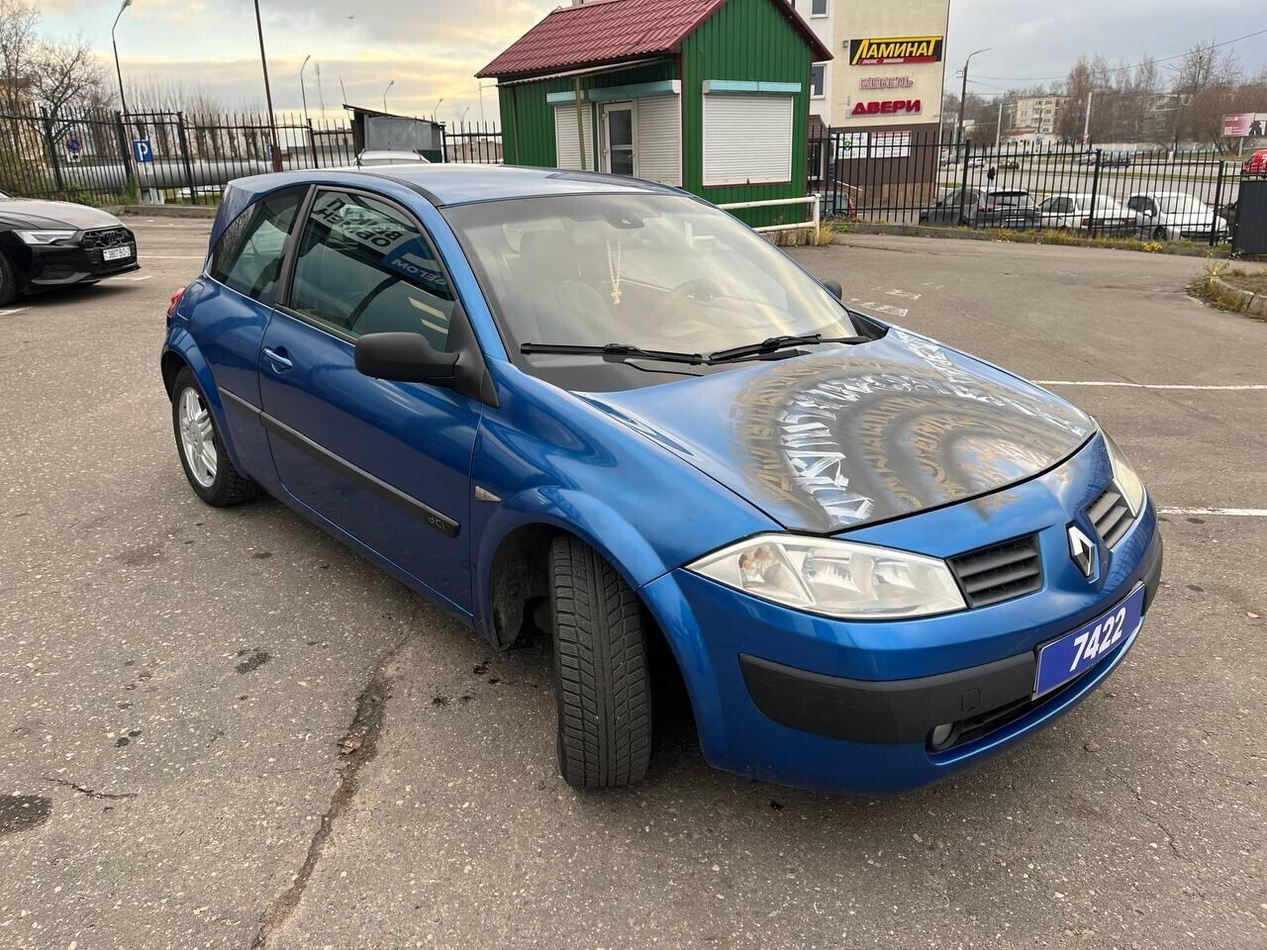Megane_2002-2006: (145, 158, 1177, 807)
